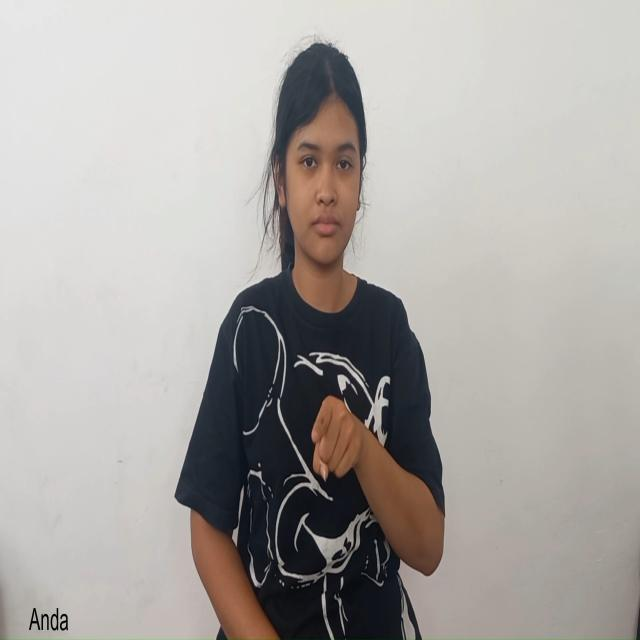Anda -BISINDO-: (263, 297, 420, 569)
